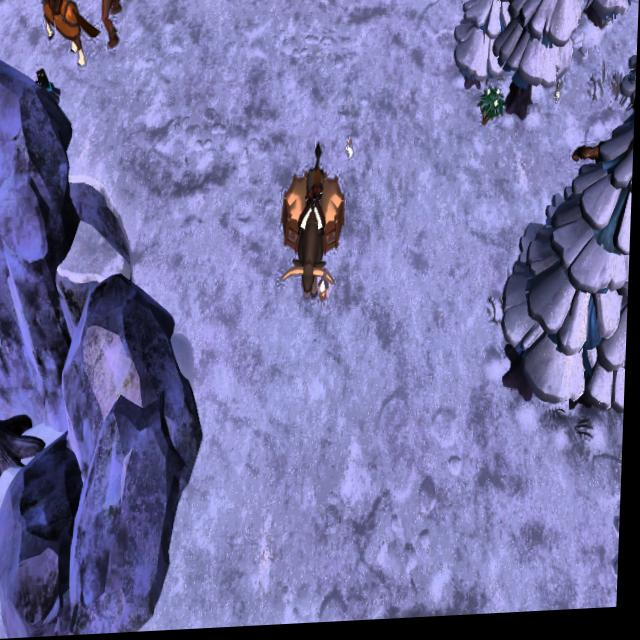ore_t3: (478, 91, 507, 139)
